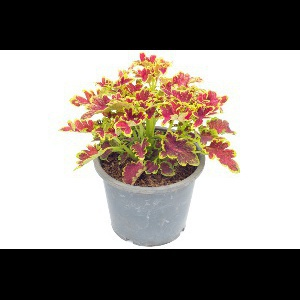flowerpot: (92, 135, 209, 248)
